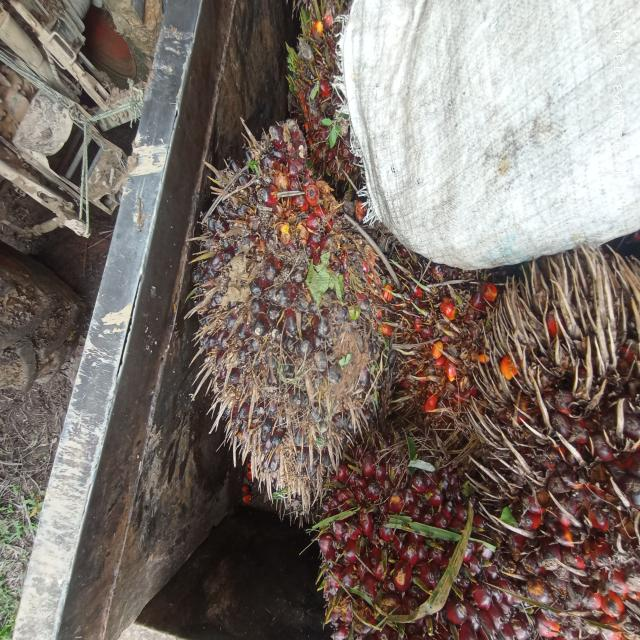fraksi 00: (153, 119, 392, 525)
fraksi 1: (319, 403, 486, 639)
